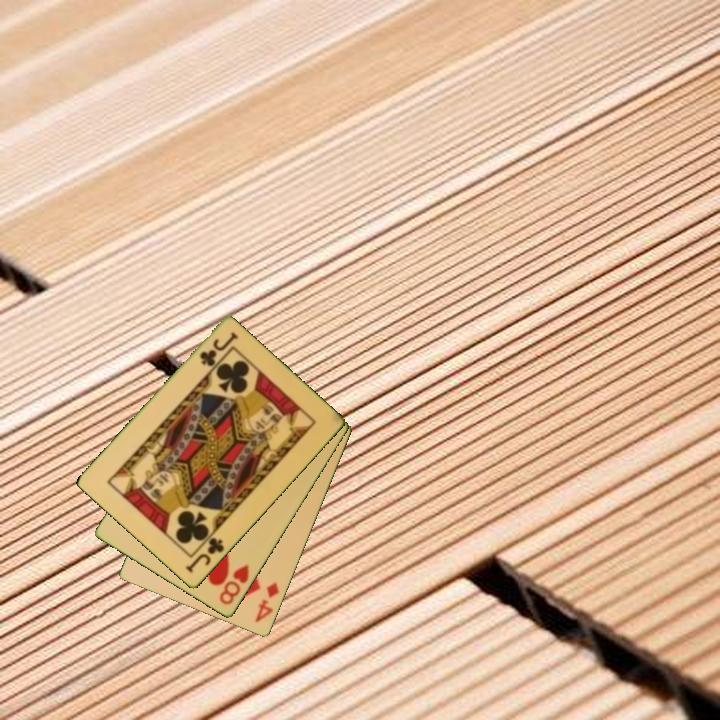4d: (252, 579, 282, 626)
8h: (216, 561, 252, 608)
Jc: (182, 534, 227, 576), (196, 329, 241, 370)
